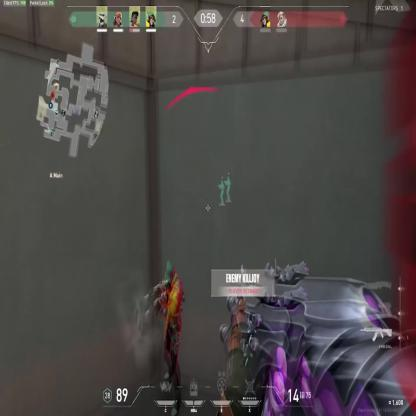enemy: (158, 260, 184, 412)
enemy_head: (165, 261, 173, 280)
